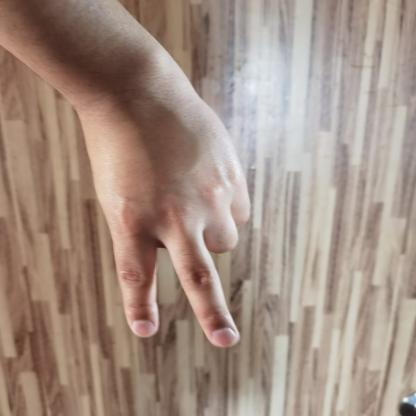N: (55, 88, 281, 362)
